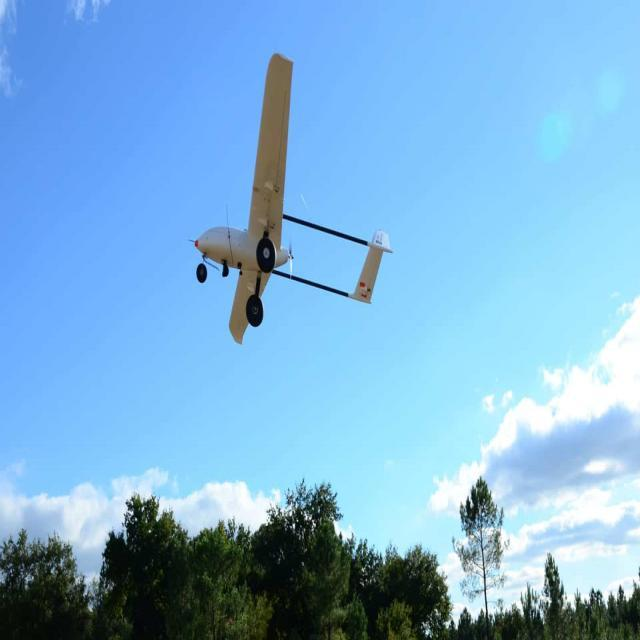iha: (126, 17, 421, 375)
